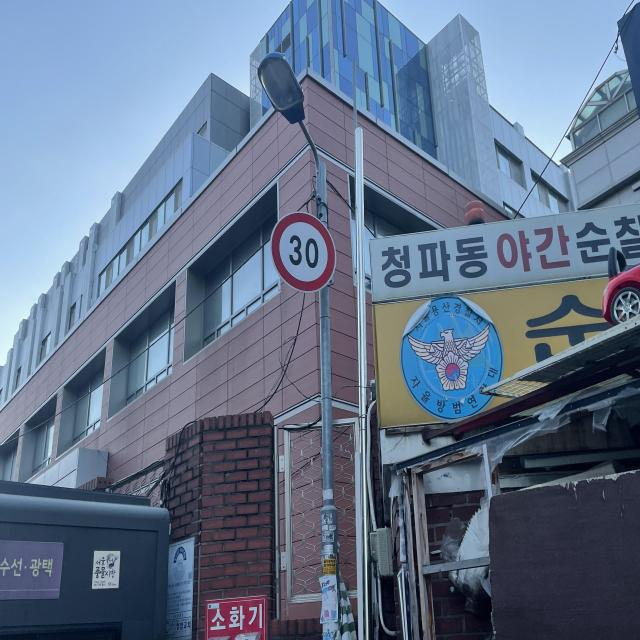Ograniczenie predkosci do 30: (272, 216, 334, 294)
